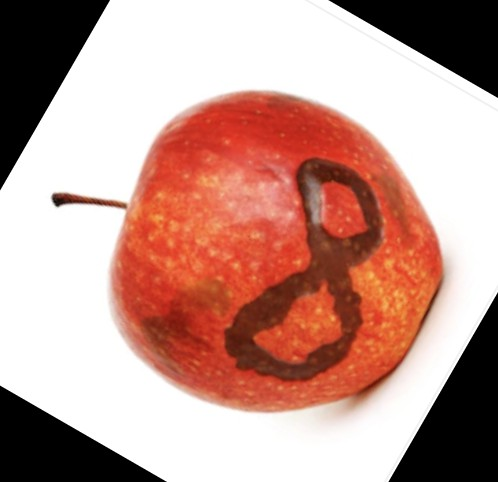rotten_apple: (105, 91, 446, 412)
